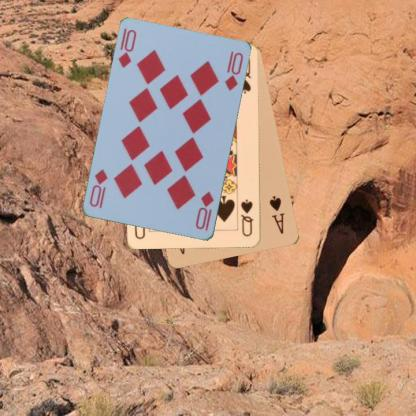10d: (193, 189, 215, 232), (116, 27, 138, 69)
As: (267, 193, 286, 235)
Qs: (238, 197, 254, 238)
